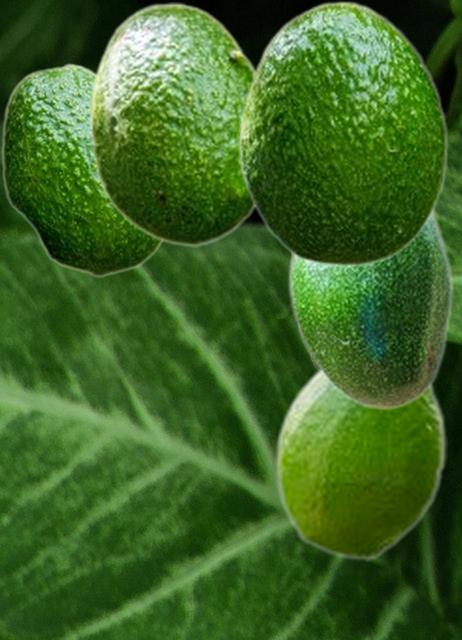avocado: (238, 0, 448, 266), (87, 2, 256, 246), (0, 62, 162, 276), (286, 206, 452, 410), (274, 367, 446, 560)
